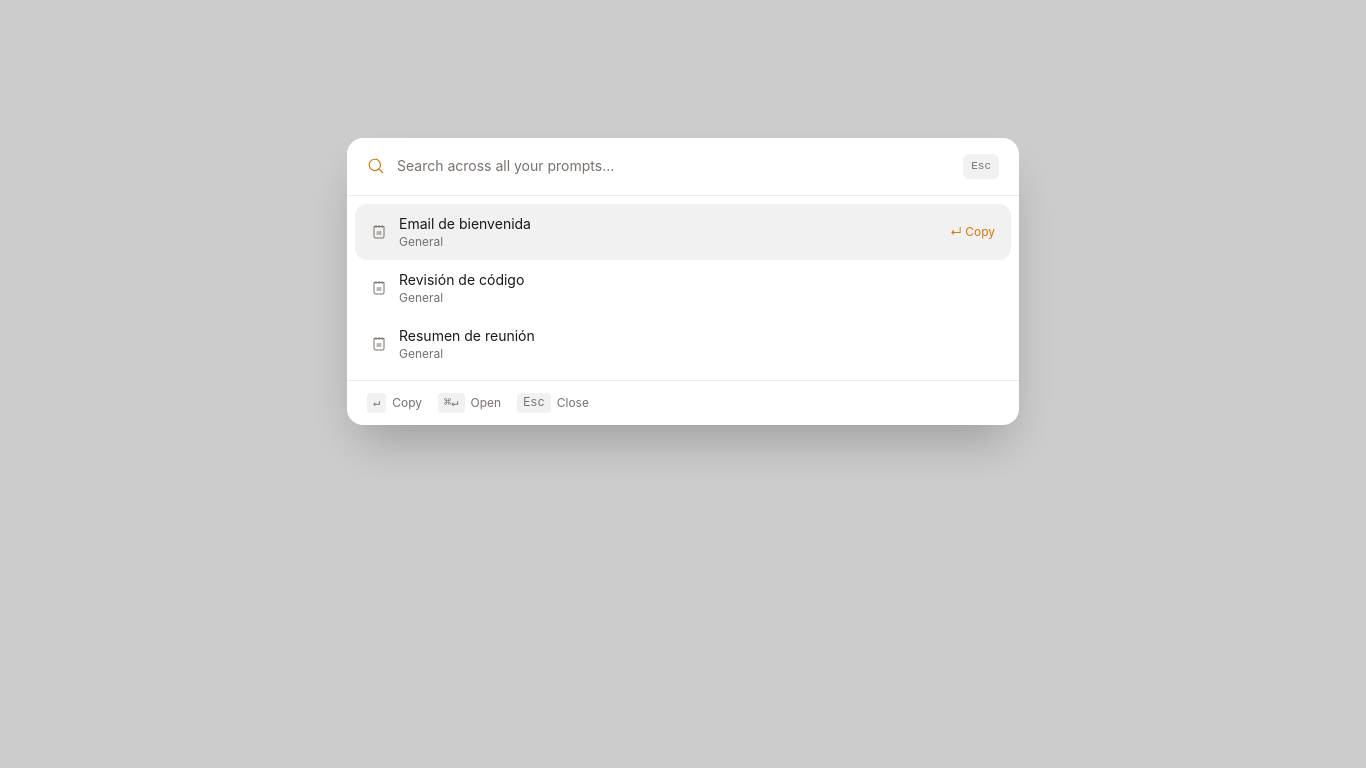
Test: SearchSpotlight › filtra prompts por título al escribir
Type "email" into the field with placeholder "Search across all your prompts...". click: (674, 166)
box: [397,156,951,176]
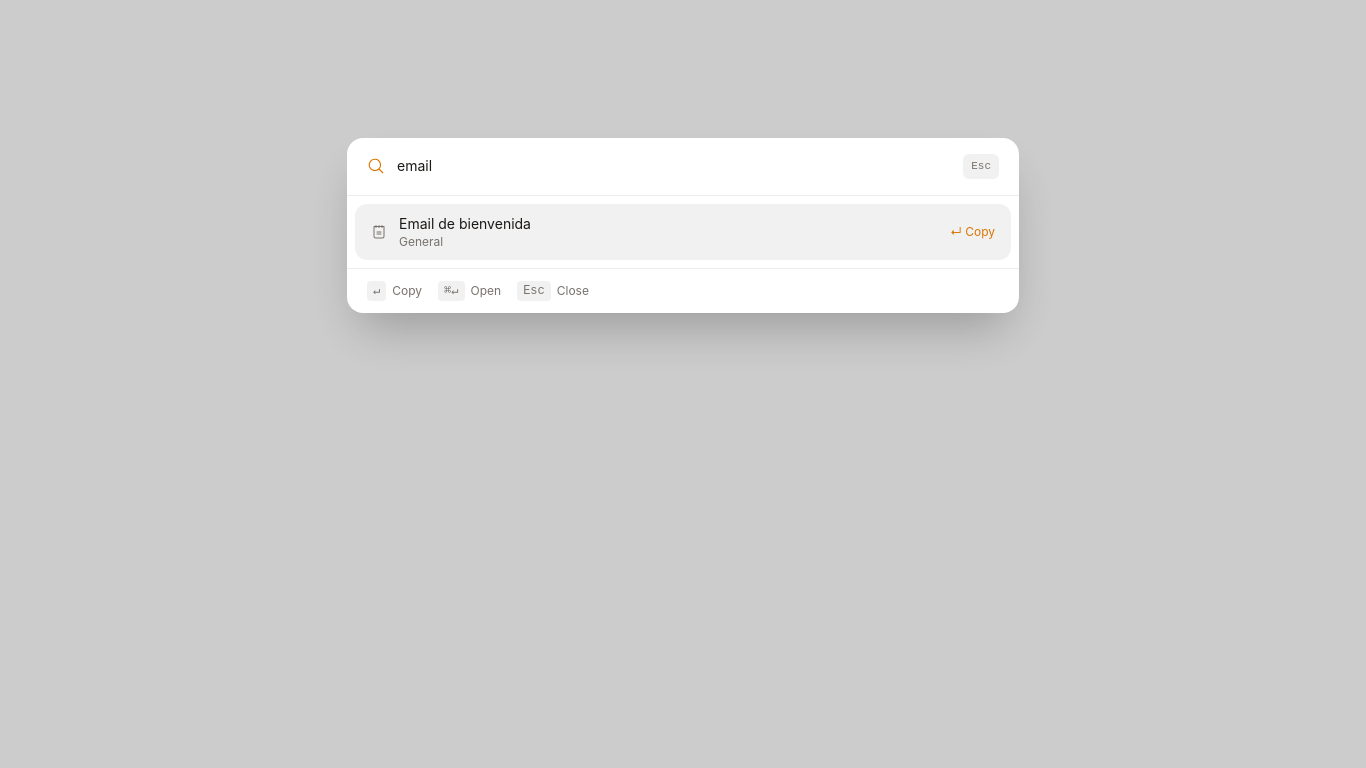
Check: the text "Email de bienvenida" is shown, box [399,215,531,232]
Check: the text "Revisión de código" is gone
